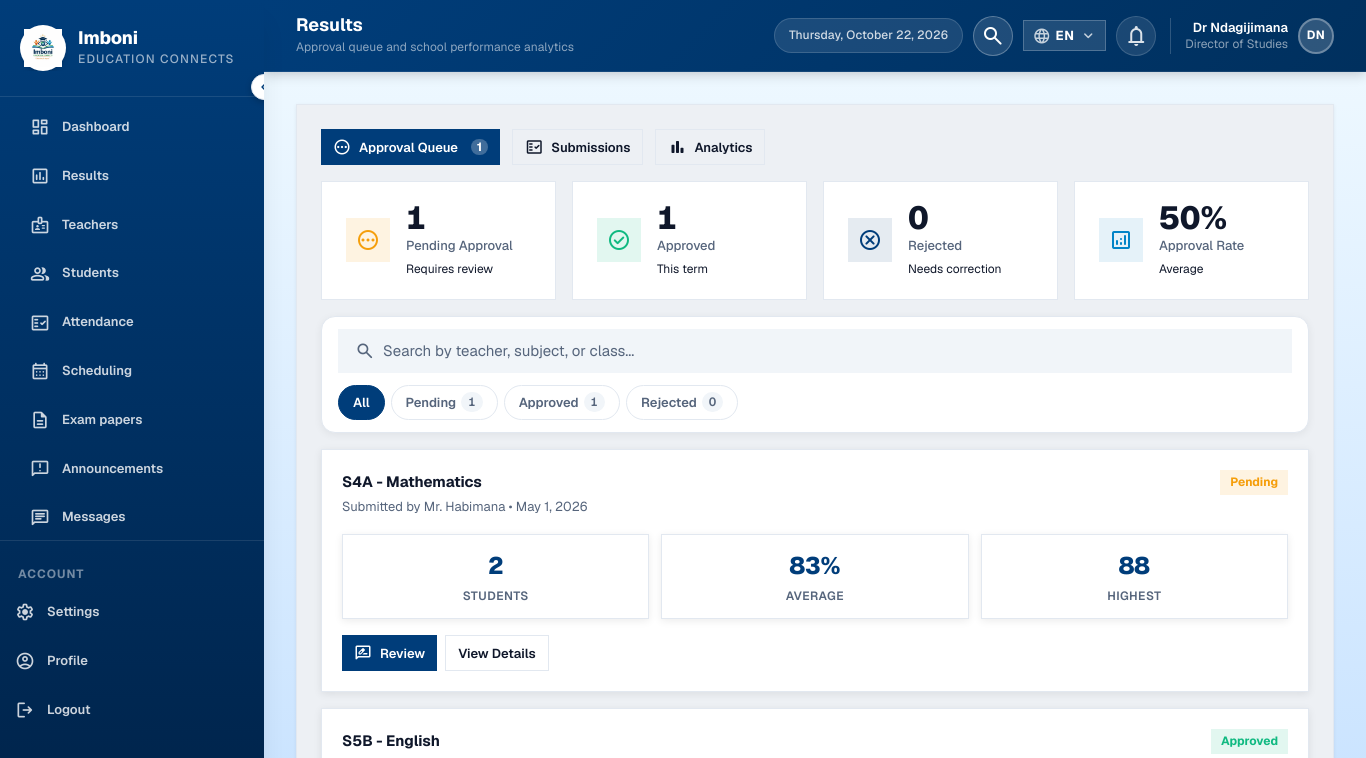
Test case: DosResults › search box narrows visible cards by teacher/subject/class text
Expected: the text "S4A - Mathematics" is shown, 342,472 -> 482,491
Expected: the text "S5B - English" is shown, 342,731 -> 440,750
Type "Claudine" into the search field with placeholder "Search by teacher, subject, or class...". click: (829, 351)
box: 383,330 -> 1275,372
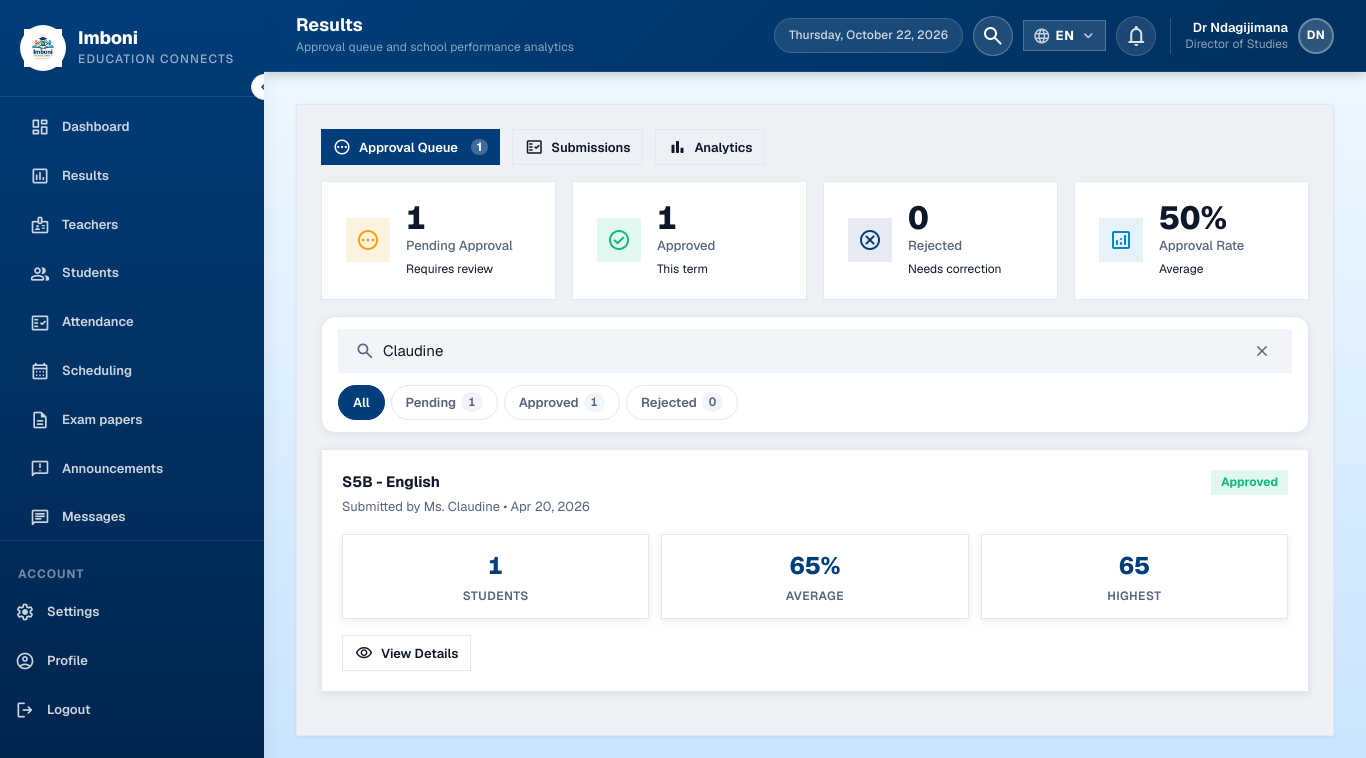
Expected: the text "S5B - English" is shown, 342,472 -> 440,491
Now the text "S4A - Mathematics" is gone
